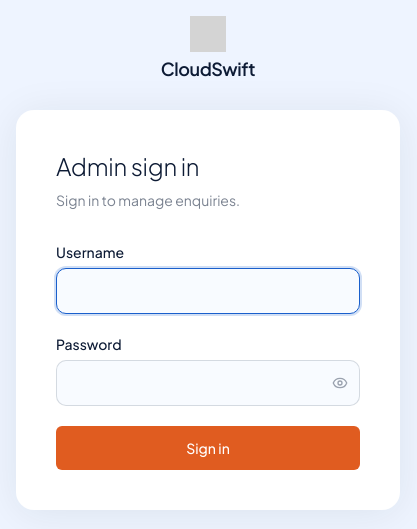
AdminLoginPage › shows a loading spinner while submitting
Type "admin" into the field labelled "Username" at (208, 291), box [56,268,360,314]
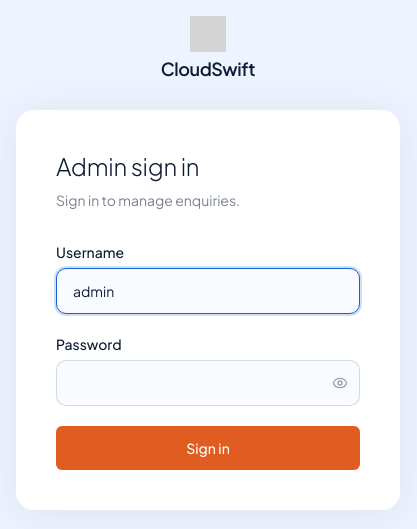
Type "correct" into the password field labelled "Password" at (208, 383), box [56,360,360,406]
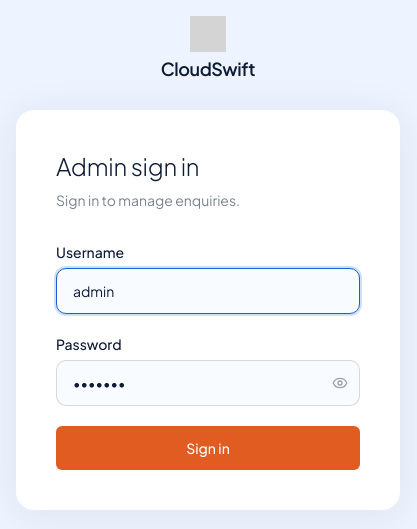
Submit the form "Sign in", box [56,242,360,470]
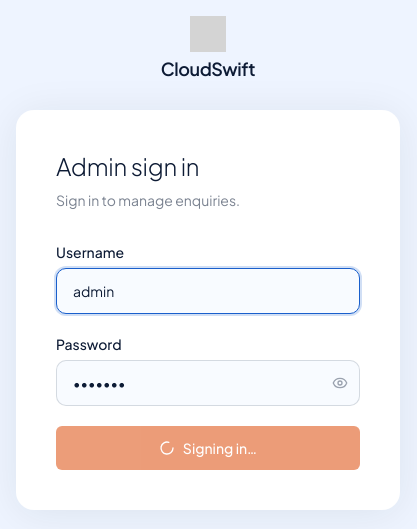
Expected: the button "Signing in…" is disabled, [56,426,360,470]
